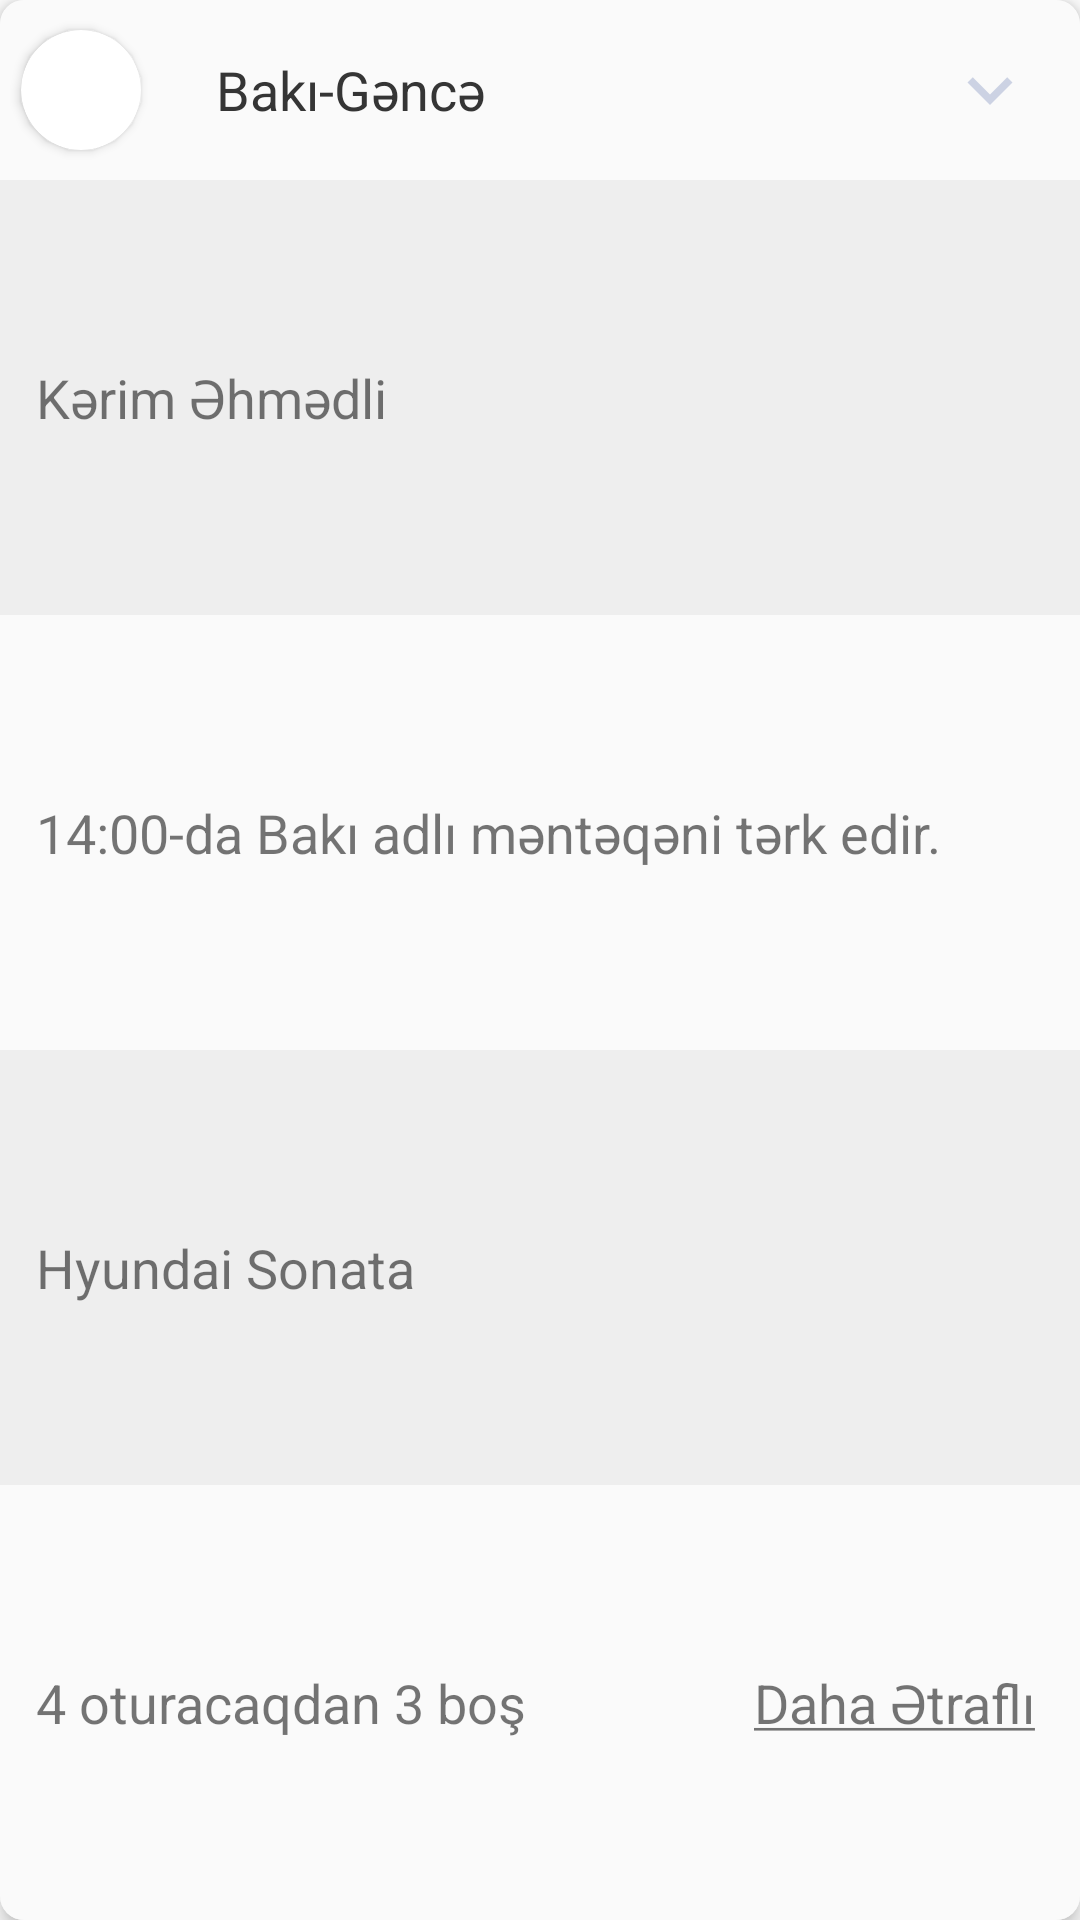

Locate icon controls on the screen. Image size 1080×1920, boxes as bbox=[x1, y1, x2, y2].
arrow down: bbox=[968, 78, 1012, 104]
